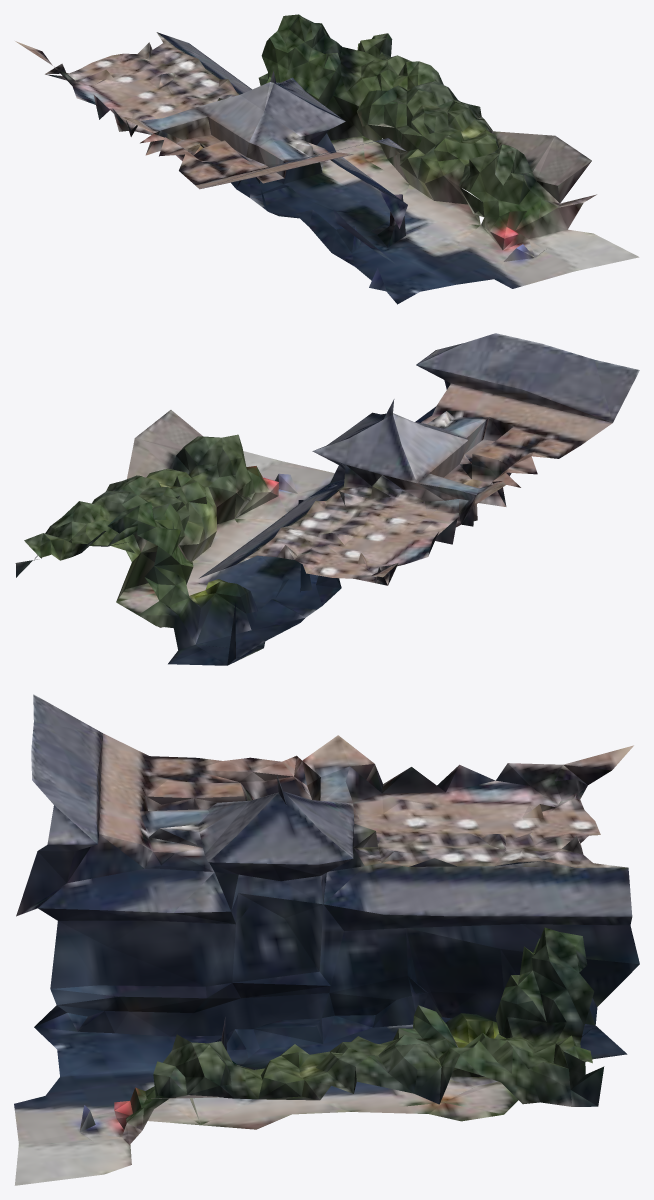
File: Tile_+001_+001_L17_00.glb
The picture shows the model from 3 angles, top to bottom: view 1: azimuth 30°, elevation 25°; view 2: azimuth 150°, elevation 25°; view 3: azimuth 270°, elevation 25°; orthographic projection. The views are drawn at different scales.
Bounding box in the file's own units: 60.49 × 25.53 × 60.66.
Materials: 1 (1 with a texture image).
